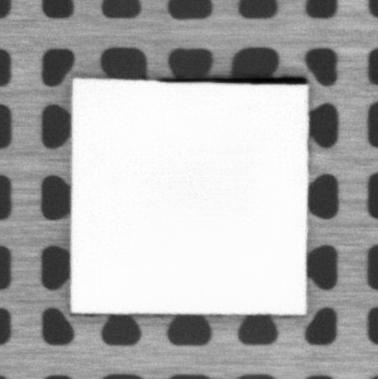DIE_BROKEN: (158, 75, 311, 86)
